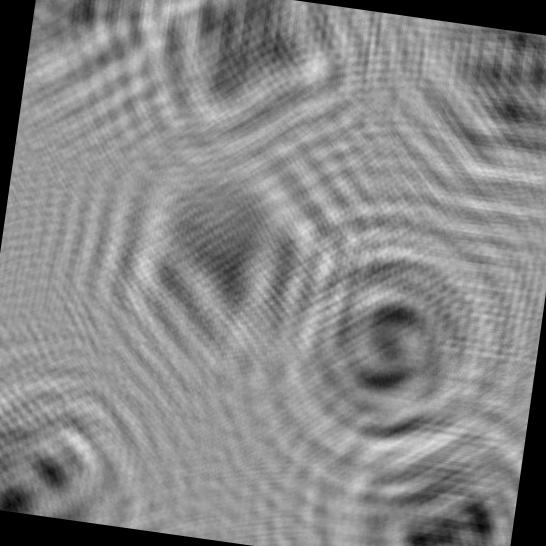B: (311, 382, 529, 546)
N: (369, 14, 546, 219)
R: (0, 367, 184, 533)
S: (219, 185, 538, 530)
V: (65, 118, 356, 424)
X: (91, 0, 381, 204)
Z: (18, 0, 184, 144)
